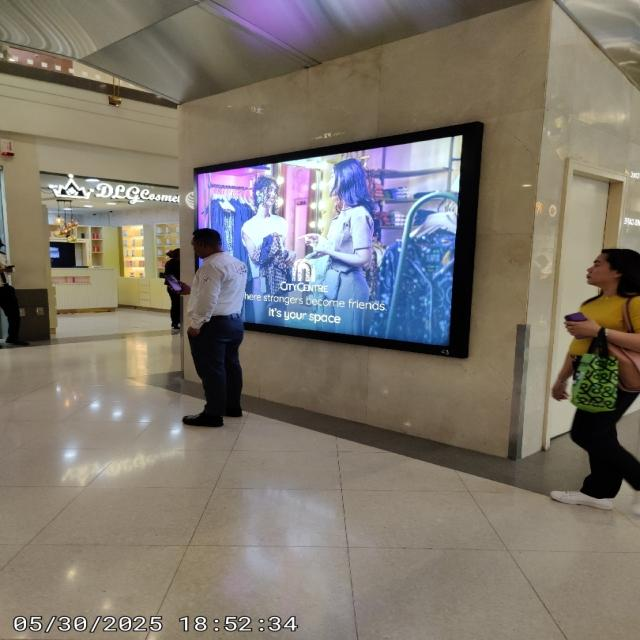digital-board-medium: (193, 125, 476, 354)
